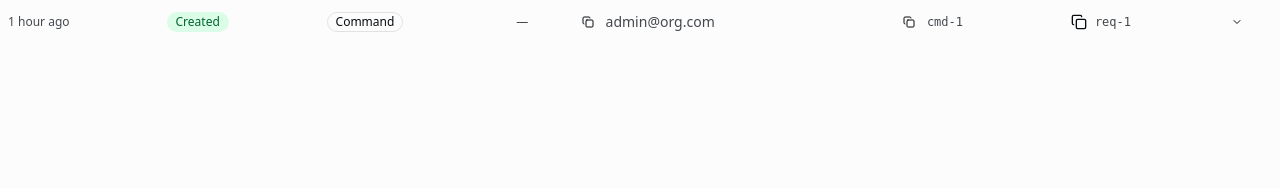
Test case: AuditLogRow › should collapse metadata details on second click
This screenshot has width=1280, height=188.
Click the button: [640, 22] box [0,0,1279,44]
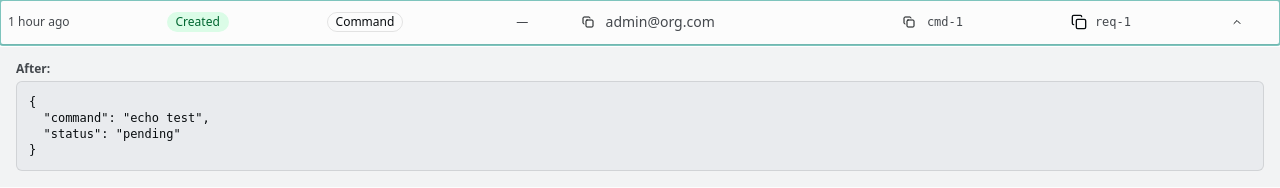
Expected: the text "After:" is shown, [16,60,50,77]
Click the button: [640, 22] box [0,0,1279,44]
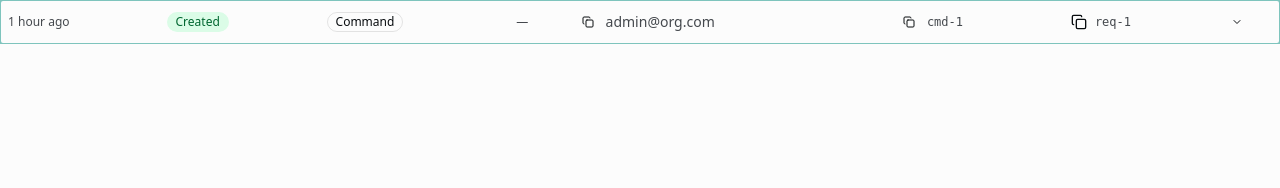
Expected: the text "After:" is gone
